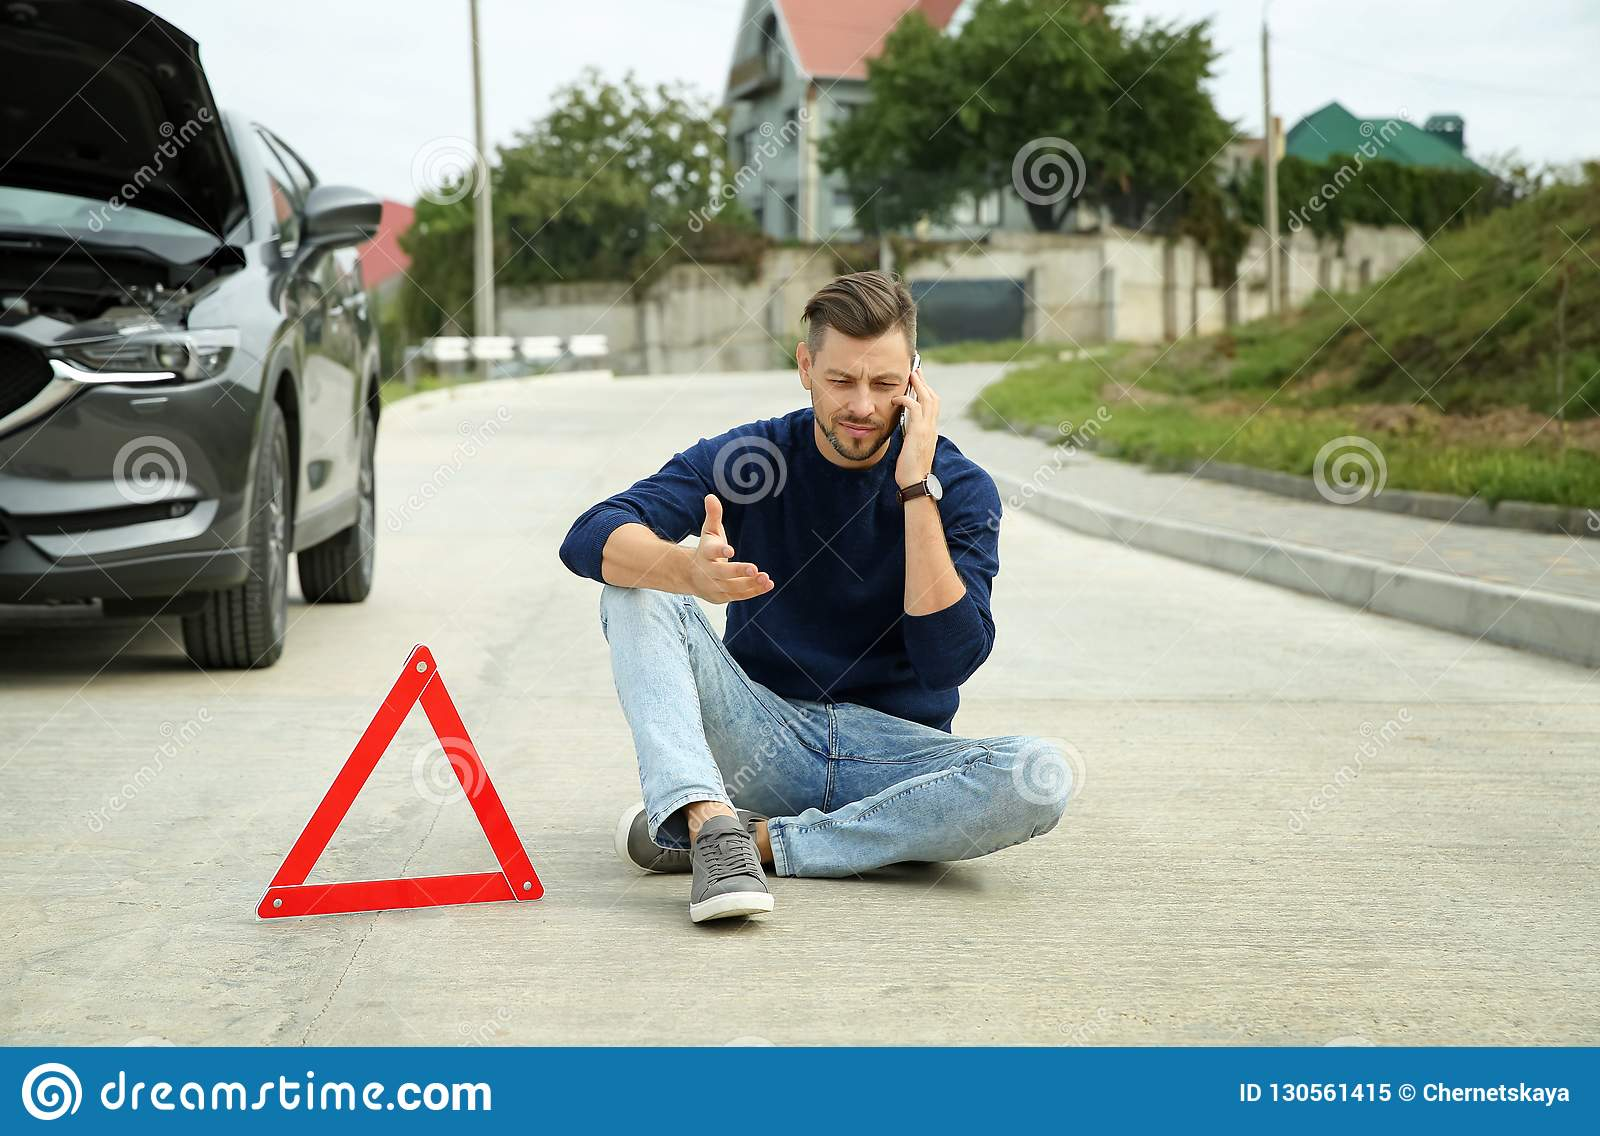phone: (896, 355, 923, 443)
talk: (822, 350, 938, 487)
